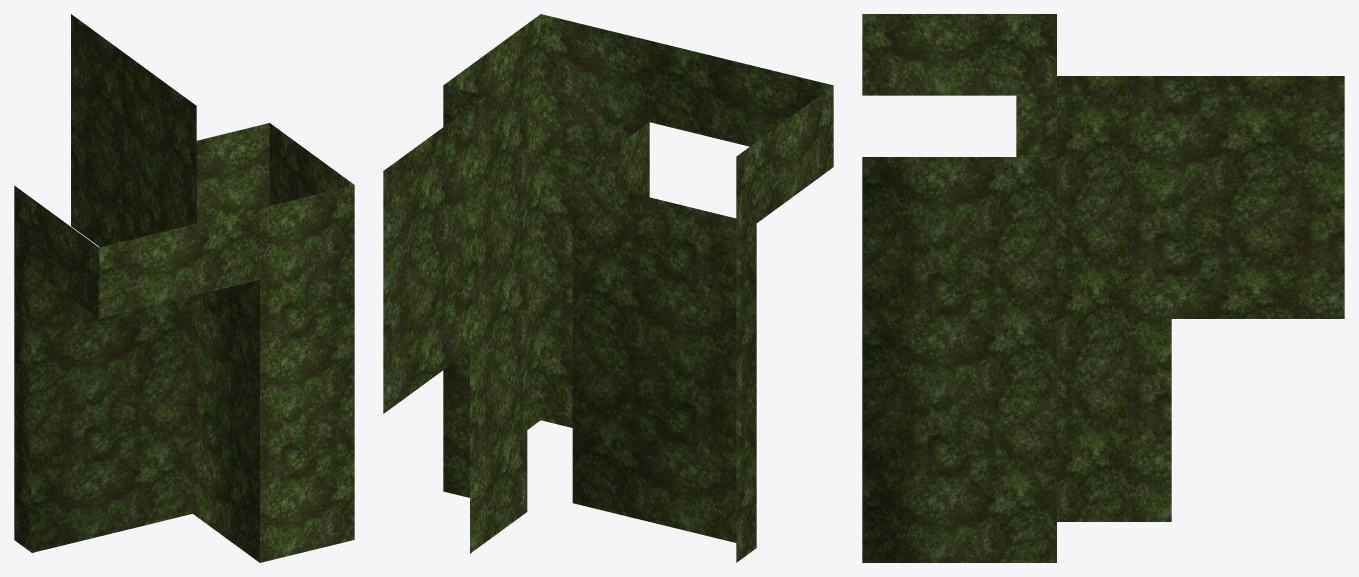
Rendered from OVERHILL_A_01_LINE148.fbx.
3 views of the same model, side by side, from view 1: azimuth 30°, elevation 25°; view 2: azimuth 150°, elevation 25°; view 3: azimuth 270°, elevation 25° (orthographic). The views are drawn at different scales.
Parts seen in each view (by area): view 1: OVERHILL_A_01_LINE148; view 2: OVERHILL_A_01_LINE148; view 3: OVERHILL_A_01_LINE148.
Part boxes in pixels (x1,y1,x2,y2): OVERHILL_A_01_LINE148: (14, 14, 354, 562); OVERHILL_A_01_LINE148: (383, 14, 833, 562); OVERHILL_A_01_LINE148: (862, 14, 1344, 562).
Bounding box in the file's own units: 58927 × 85807 × 84084.
1 material, 1 textured.
